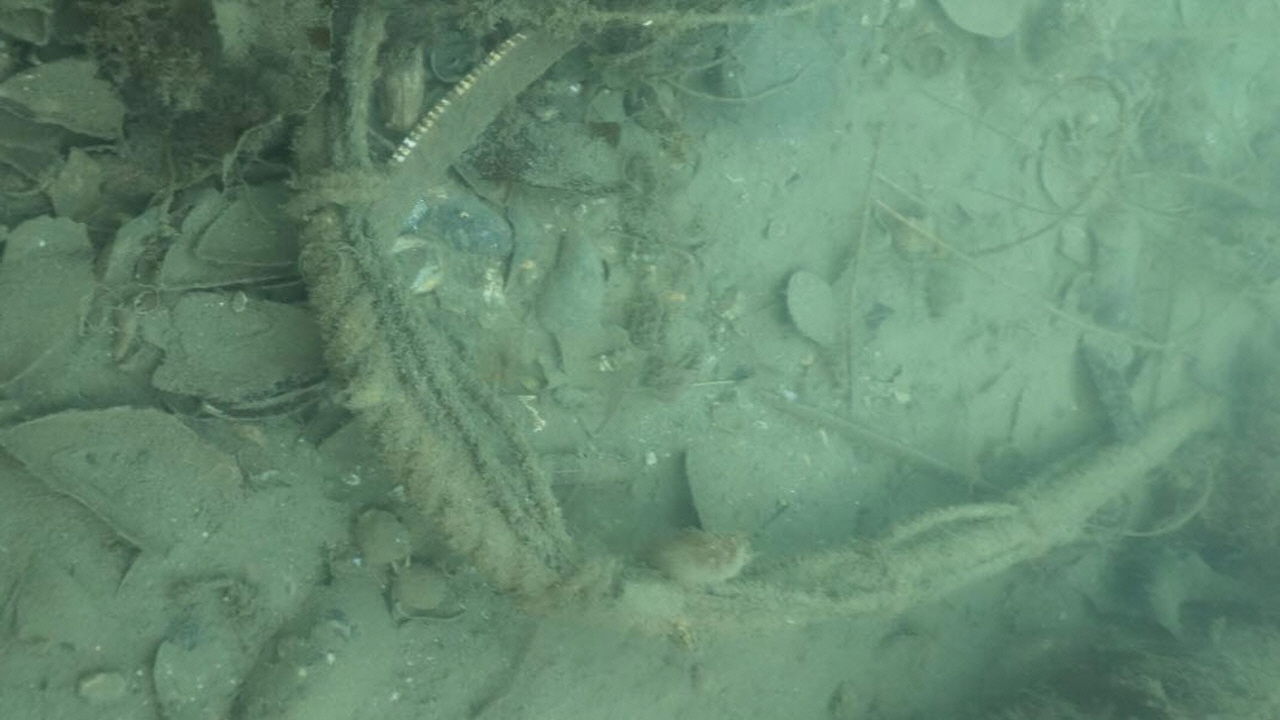bundle of ropes: (282, 0, 1239, 637)
